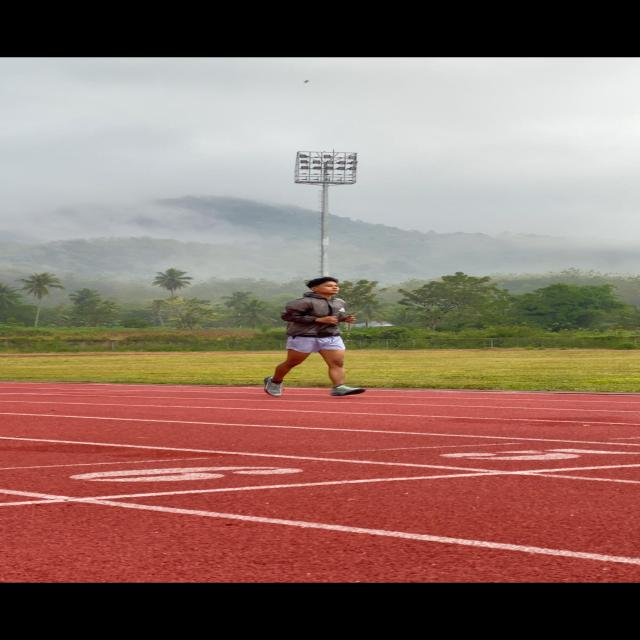nohelmet: (298, 273, 351, 302)
